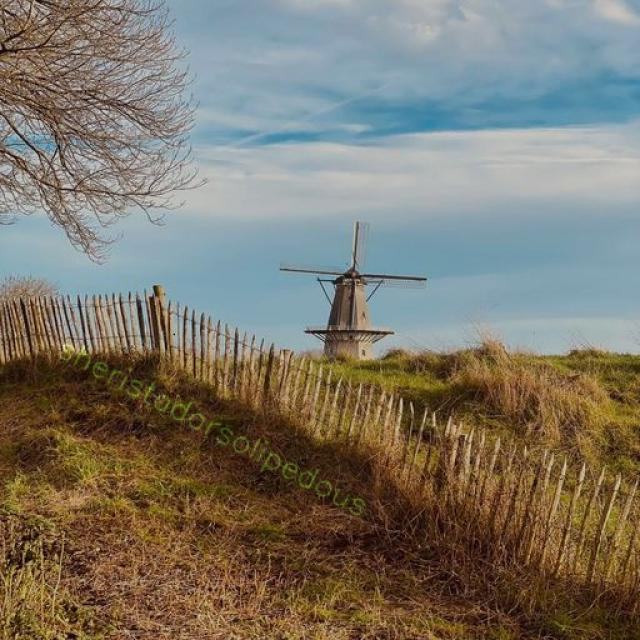watermark: (47, 330, 383, 522)
